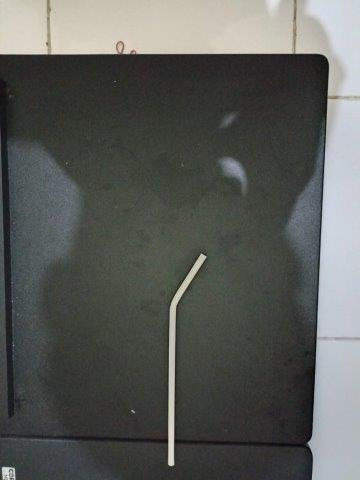karet: (115, 40, 137, 55)
sedotan: (167, 255, 207, 466)
